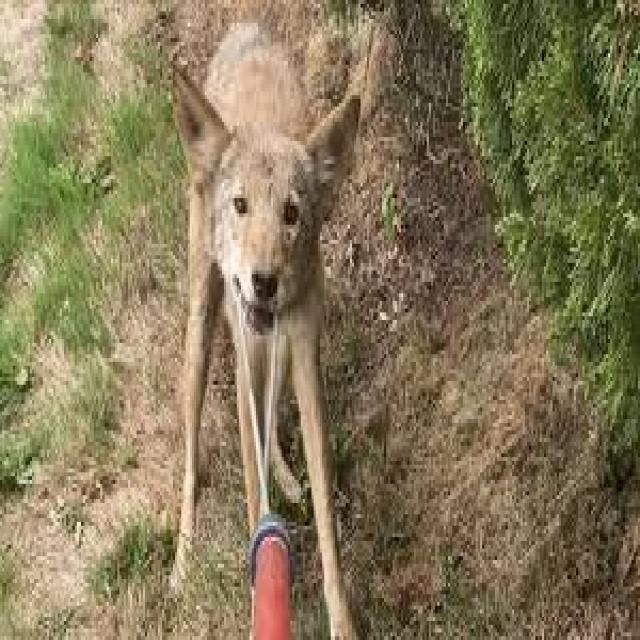Coyote: (160, 8, 372, 634)
